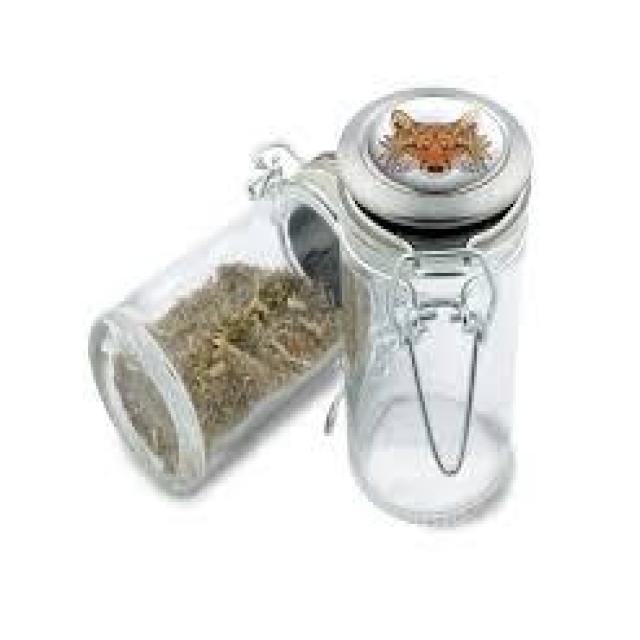Glass: (87, 139, 346, 501), (332, 85, 534, 529)
